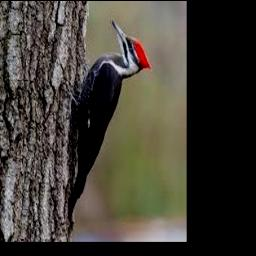Woodpecker: (64, 19, 152, 229)
